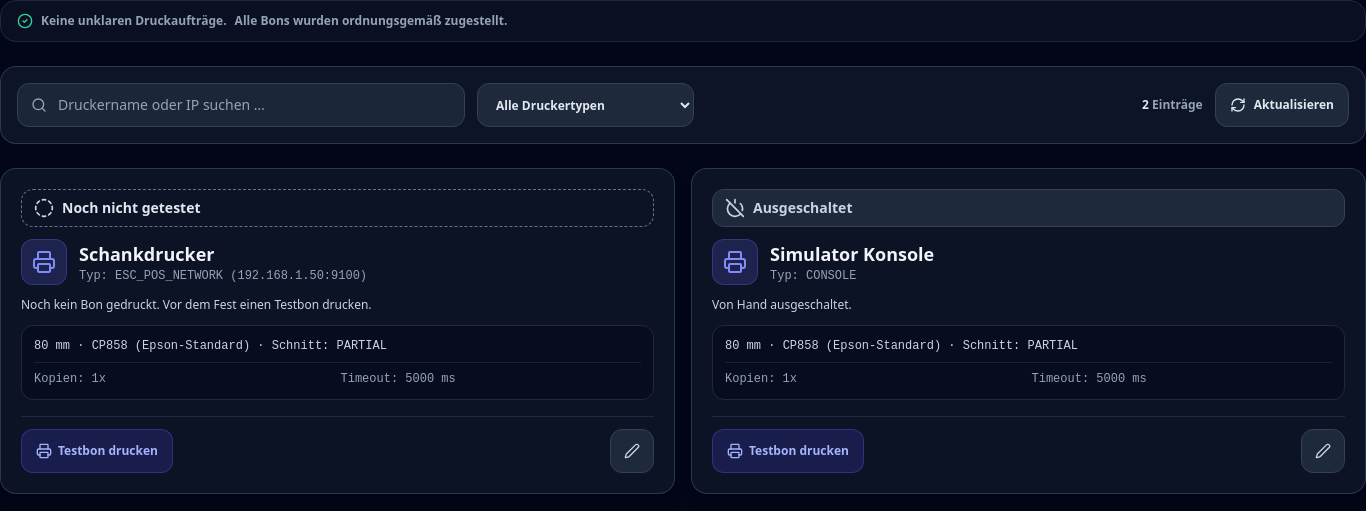
AdminPrintersView › filtert Drucker nach Suche und Druckertyp
This screenshot has width=1366, height=511.
Type "Schank" into the field with placeholder "Druckername oder IP suchen …" at [241, 105], box [17, 83, 465, 127]
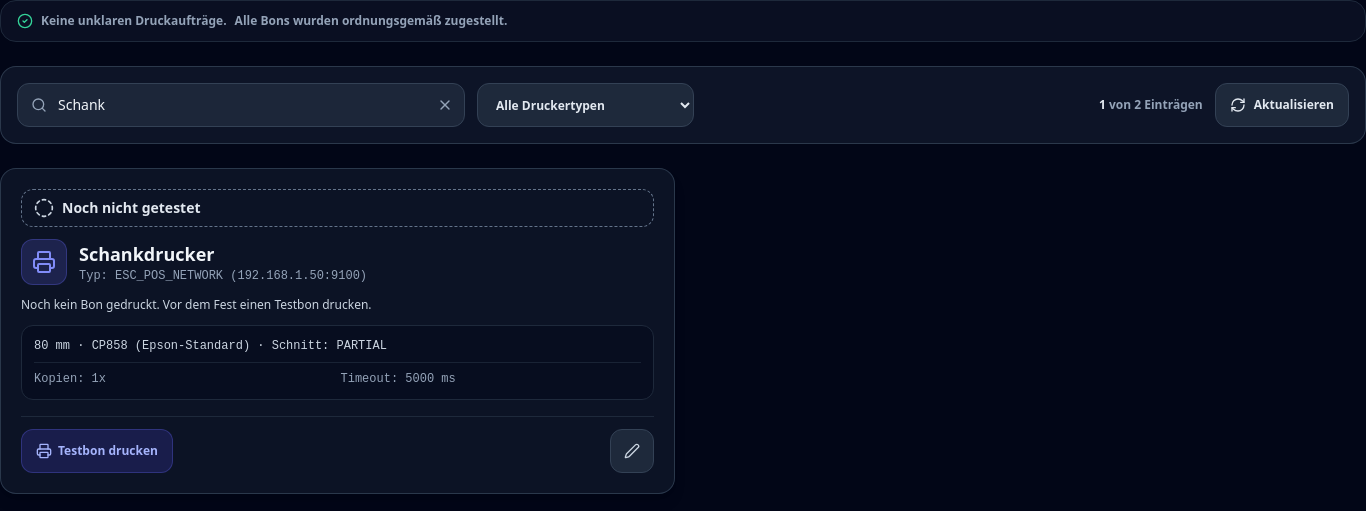
Expected: the heading "Schankdrucker" is shown, [79, 242, 214, 266]
Expected: the heading "Simulator Konsole" is gone
Select "Konsole (Simulator)" in the dropdown named "Druckertyp filtern" at [586, 105], box [477, 83, 694, 127]
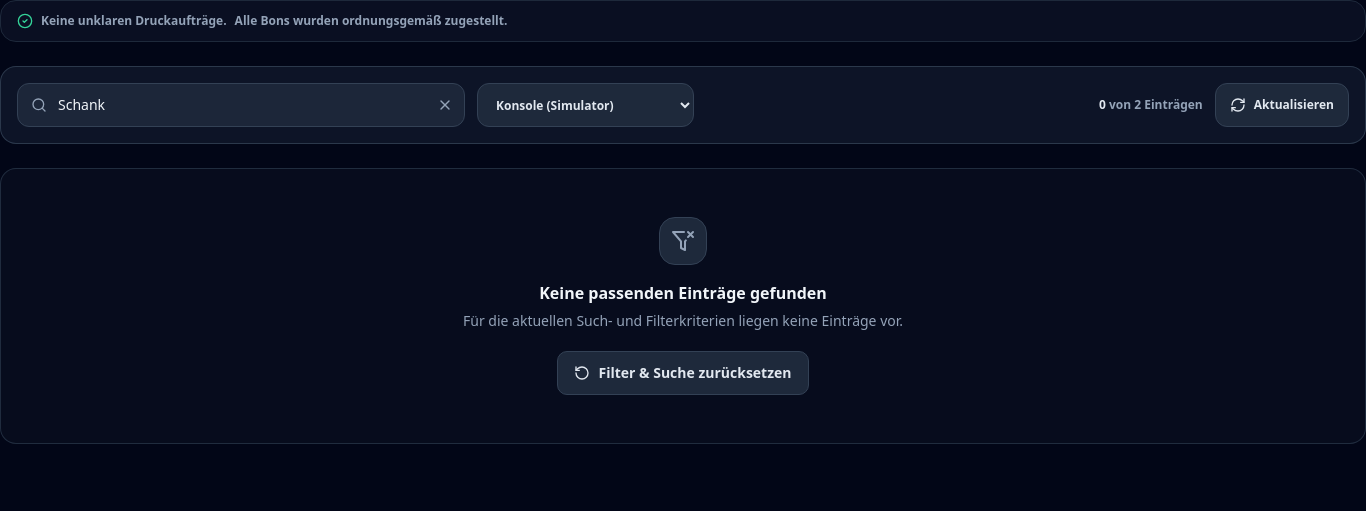
Expected: the heading "Keine passenden Einträge gefunden" is shown, [539, 281, 827, 305]
